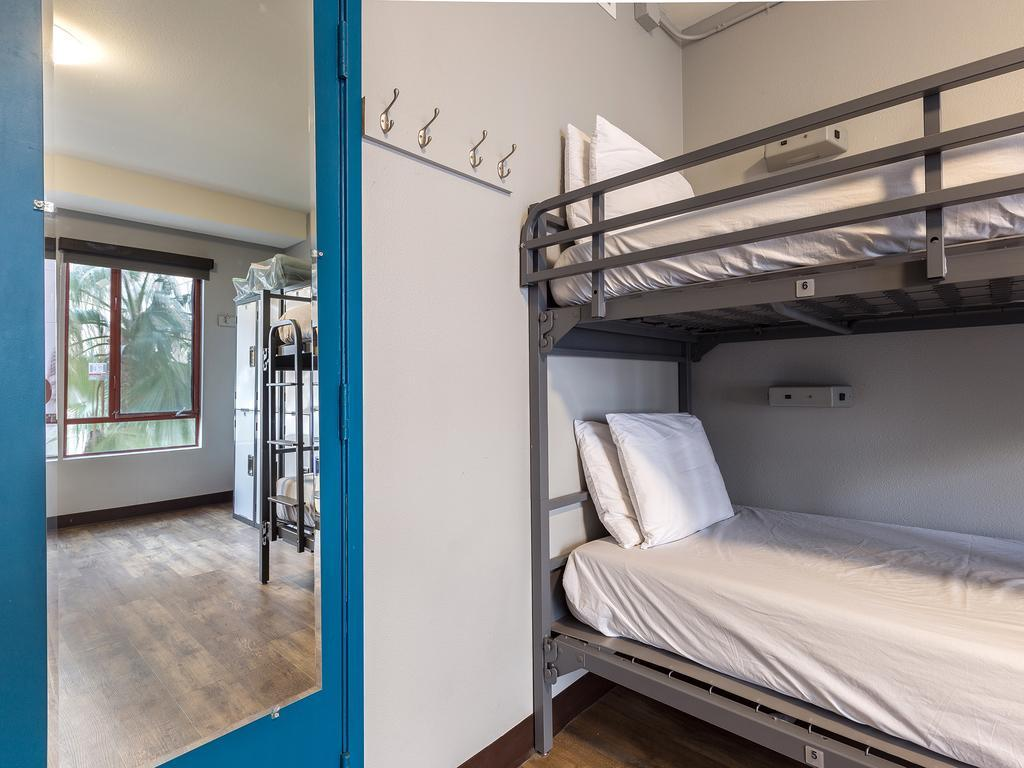bed: (503, 90, 1008, 278)
